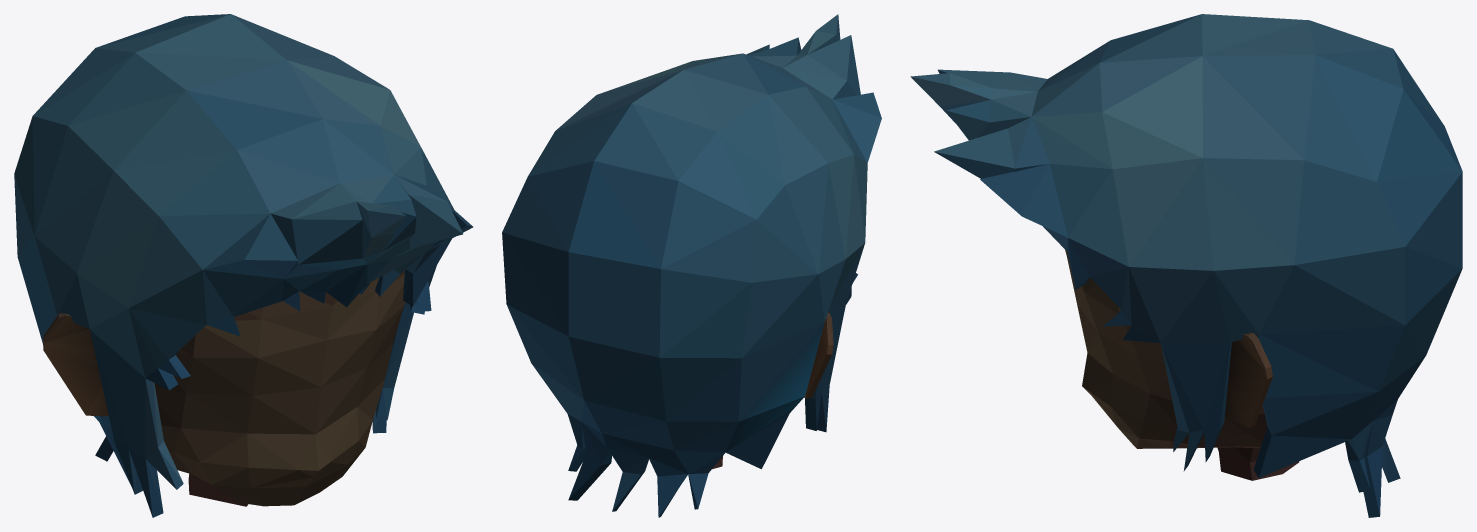
File: helm_darkskin_standard_blue.fbx
The picture shows the model from 3 angles, left to right: view 1: azimuth 30°, elevation 25°; view 2: azimuth 150°, elevation 25°; view 3: azimuth 270°, elevation 25°; orthographic projection. The views are drawn at different scales.
Visible parts, largest first — view 1: helm_darkskin_standard_blue; view 2: helm_darkskin_standard_blue; view 3: helm_darkskin_standard_blue.
Boxes of the visible parts, x1=… form: helm_darkskin_standard_blue: x1=14, y1=14, x2=473, y2=517; helm_darkskin_standard_blue: x1=502, y1=14, x2=881, y2=517; helm_darkskin_standard_blue: x1=910, y1=14, x2=1462, y2=517.
Size of the model in its own units: 1.13 by 1.38 by 1.55.
